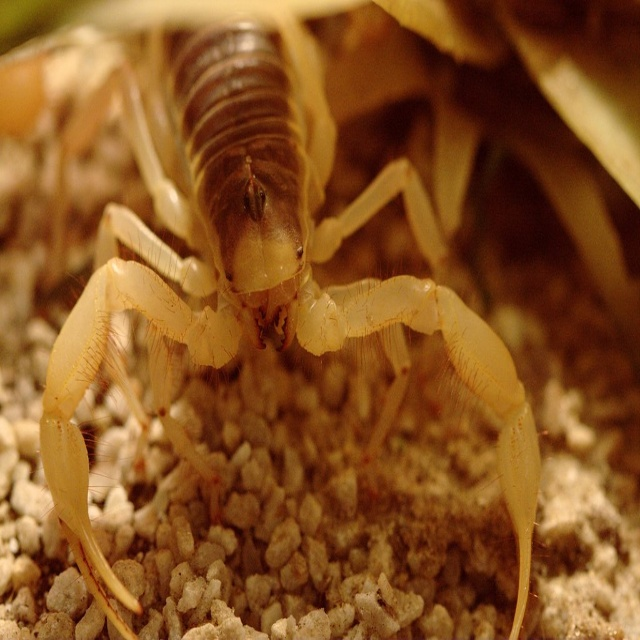Scorpion: (0, 0, 553, 636)
